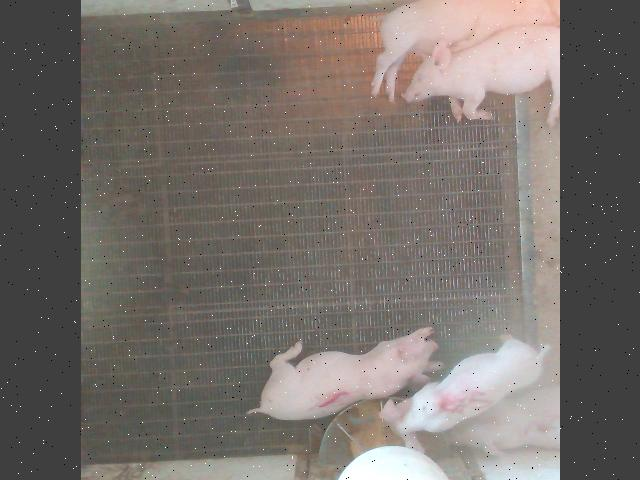pig-1: (246, 328, 441, 420)
pig-3: (442, 386, 558, 455)
pig-5: (380, 338, 548, 450)
